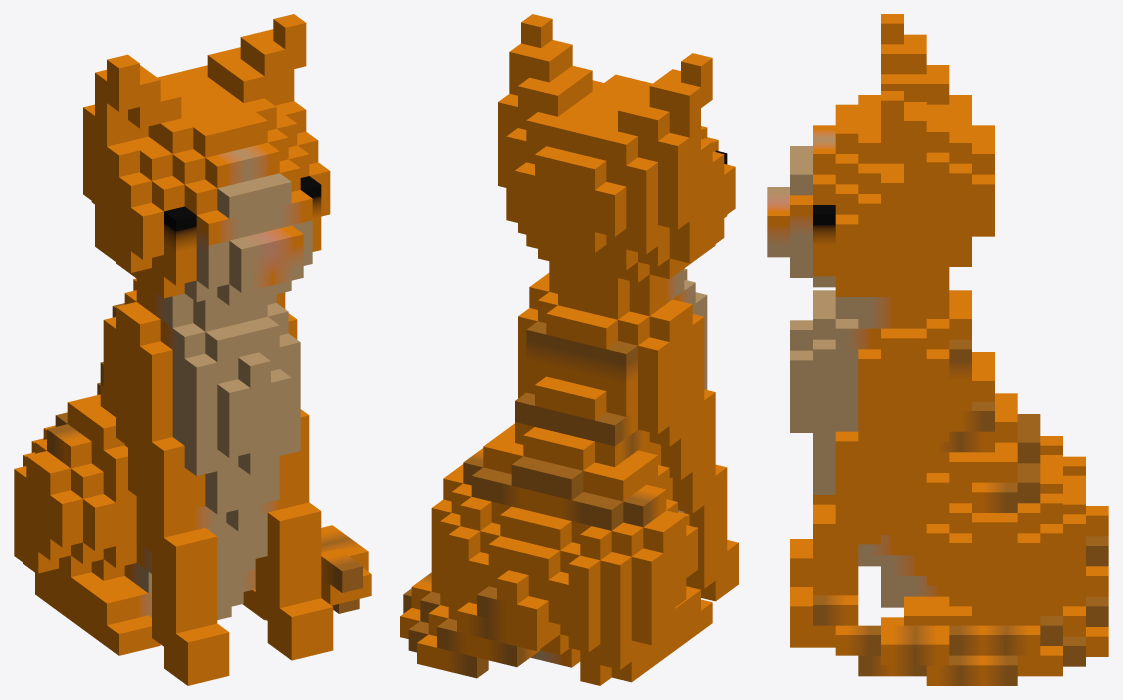
3 views of the same model, side by side, from view 1: azimuth 30°, elevation 25°; view 2: azimuth 150°, elevation 25°; view 3: azimuth 270°, elevation 25° (orthographic). The views are drawn at different scales.
Parts seen in each view (by area): view 1: Matrix; view 2: Matrix; view 3: Matrix.
Boxes of the visible parts, x1,y1,x2,y2 form: Matrix: [14, 14, 371, 685]; Matrix: [400, 14, 738, 685]; Matrix: [767, 14, 1108, 685].
Bounding box in the file's own units: 13 × 27 × 15.
Materials: 1 (1 with a texture image).
